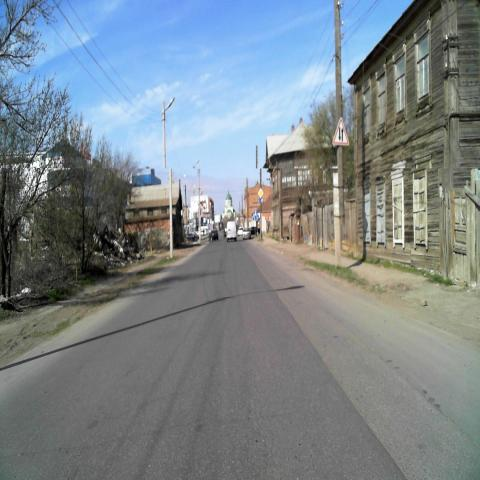1_21: (331, 116, 350, 147)
